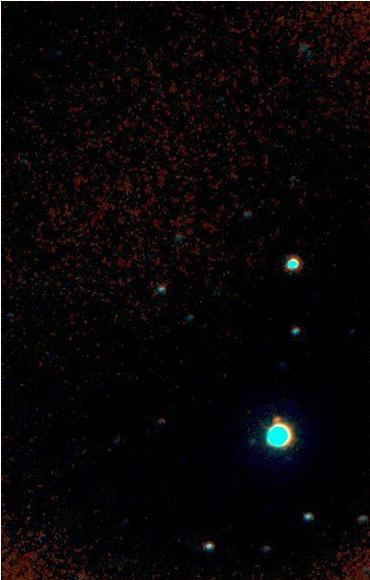star: (261, 403, 291, 433)
